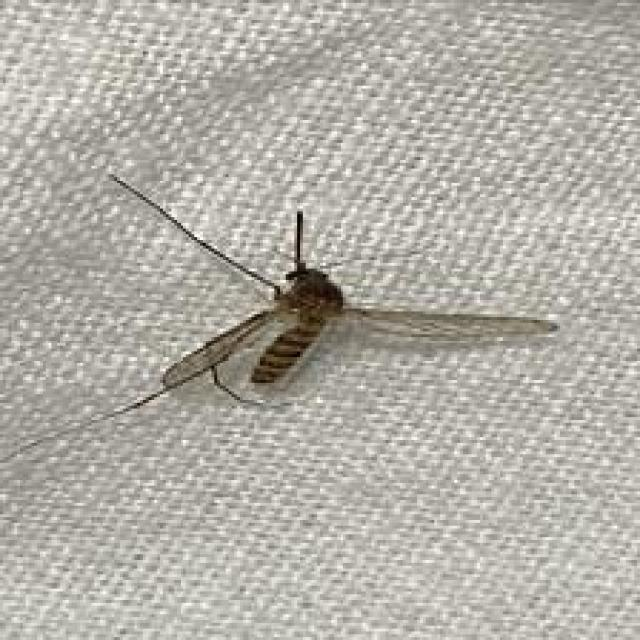Culex: (101, 170, 558, 419)
